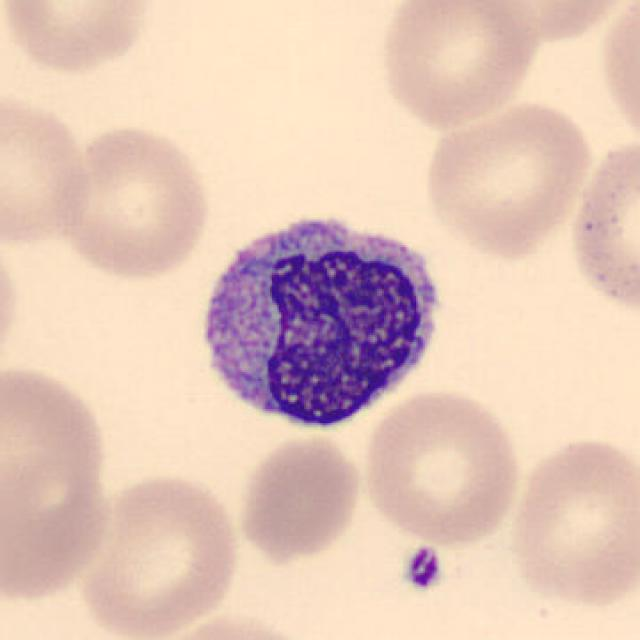Monocyte: (187, 198, 455, 444)
Platelets: (400, 543, 446, 594)
RBC: (0, 359, 117, 608), (418, 97, 596, 259), (73, 469, 243, 638), (48, 120, 215, 284), (359, 386, 525, 548), (503, 430, 640, 614), (375, 0, 542, 130), (233, 430, 366, 564), (0, 85, 96, 250), (563, 130, 640, 320), (0, 0, 158, 78), (464, 0, 636, 44), (595, 0, 640, 153), (135, 610, 327, 640), (0, 230, 25, 384)
